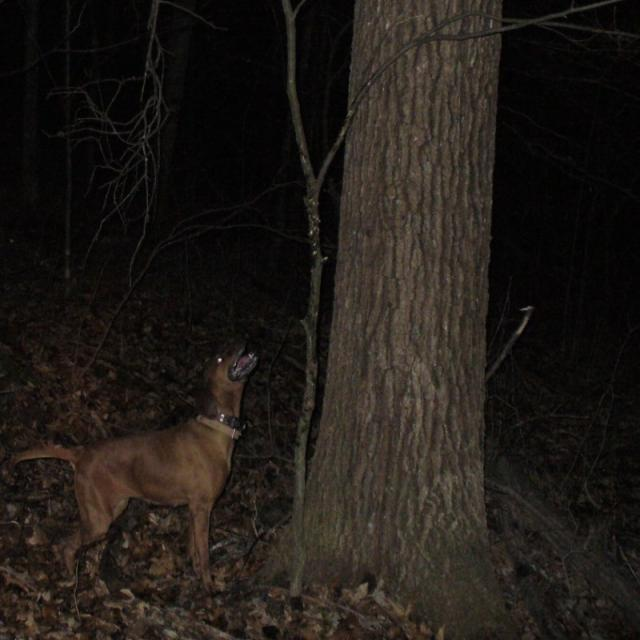Dog: (50, 339, 307, 592)
